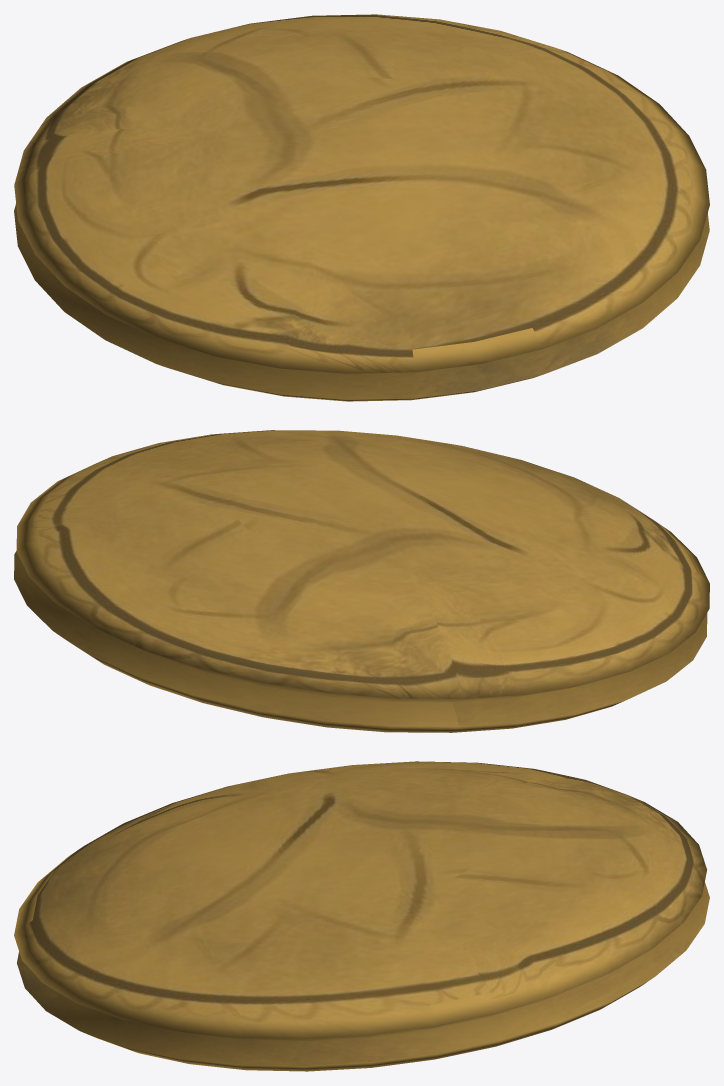
File: mirrorClosed.fbx
3 renders of one model, top to bottom at view 1: azimuth 30°, elevation 25°; view 2: azimuth 150°, elevation 25°; view 3: azimuth 270°, elevation 25°, orthographic.
Parts seen in each view (by area): view 1: Sphere.029; view 2: Sphere.029; view 3: Sphere.029.
Boxes of the visible parts, x1,y1,x2,y2 form: Sphere.029: (14,14,709,401); Sphere.029: (14,430,709,732); Sphere.029: (14,761,709,1071).
Bounding box in the file's own units: 15.62 × 3.8 × 15.6.
